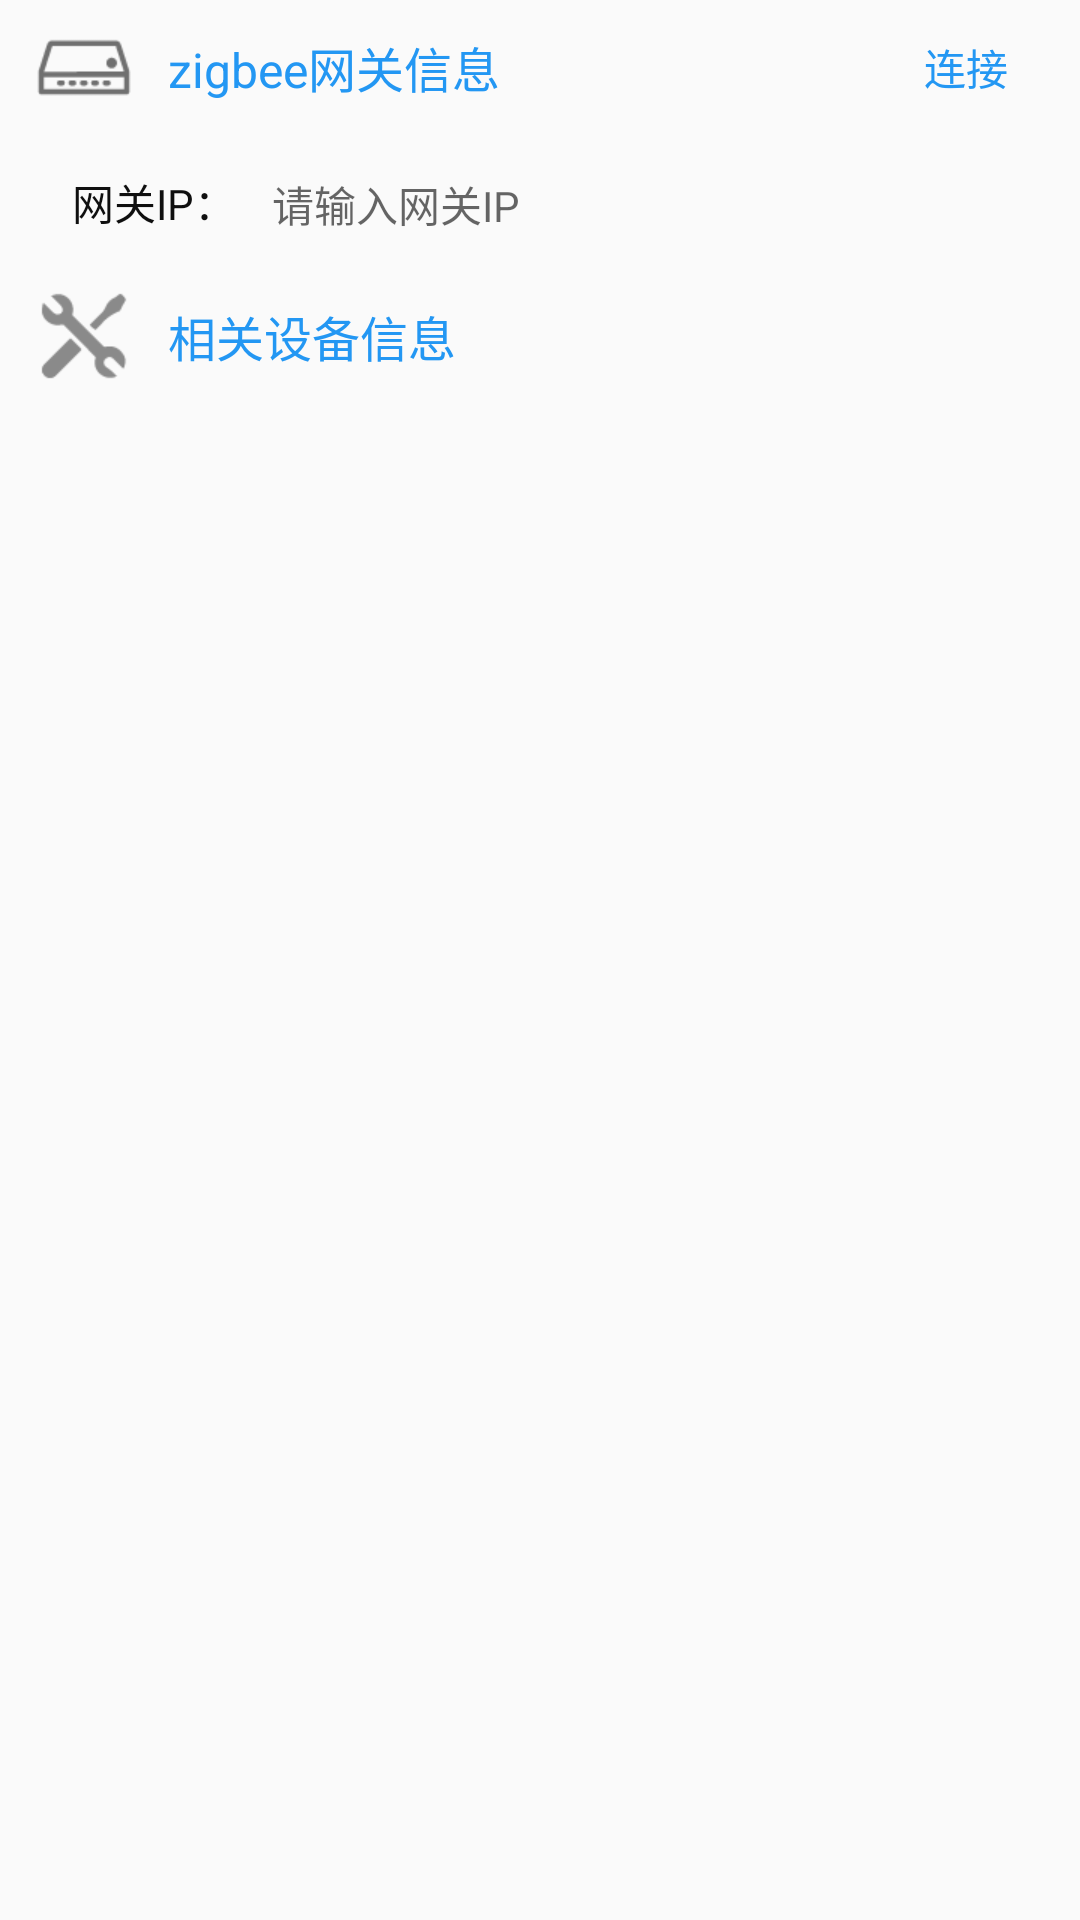

Named icons in this screenshot (1080*1920) and their centers, (x=x, y=y):
gateway: (x=84, y=67)
